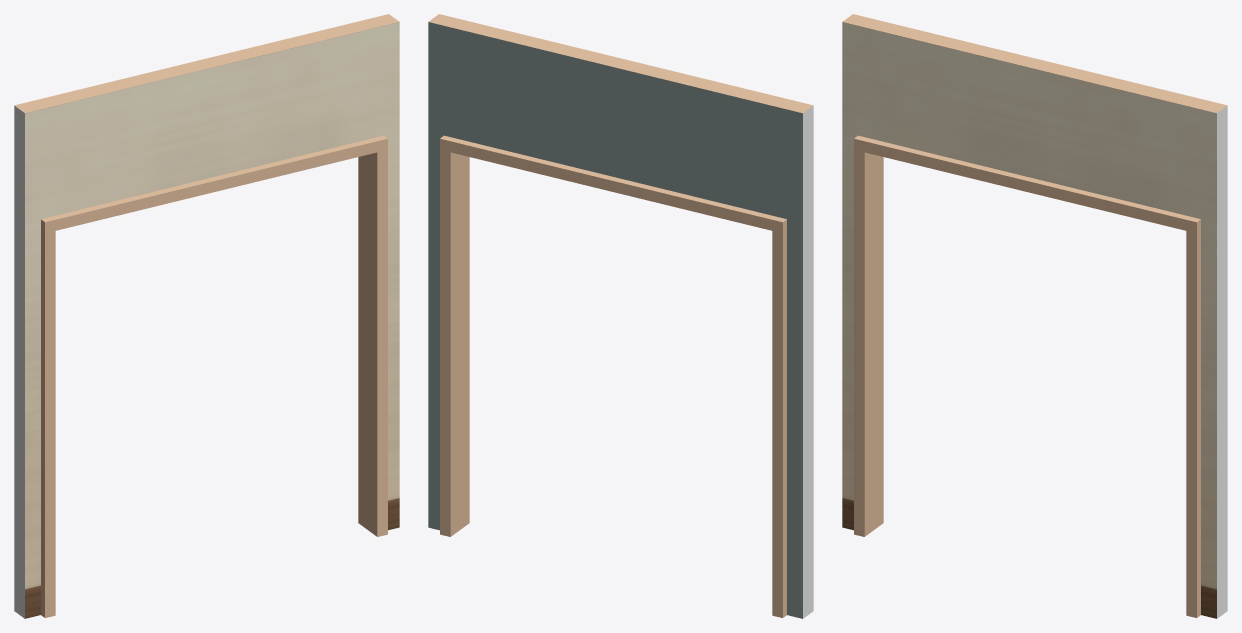
Rendered from wallDoorwayWide.glb.
3 renders of one model, left to right at view 1: azimuth 30°, elevation 25°; view 2: azimuth 150°, elevation 25°; view 3: azimuth 330°, elevation 25°, orthographic.
Visible parts, largest first — view 1: wallDoorwayWide; view 2: wallDoorwayWide; view 3: wallDoorwayWide.
Boxes of the visible parts, bbox=[...] form: wallDoorwayWide: bbox=[14, 14, 399, 618]; wallDoorwayWide: bbox=[428, 14, 813, 618]; wallDoorwayWide: bbox=[842, 14, 1227, 618].
Bounding box in the file's own units: 1 × 1.29 × 0.0891.
Materials: 4 (1 with a texture image).
